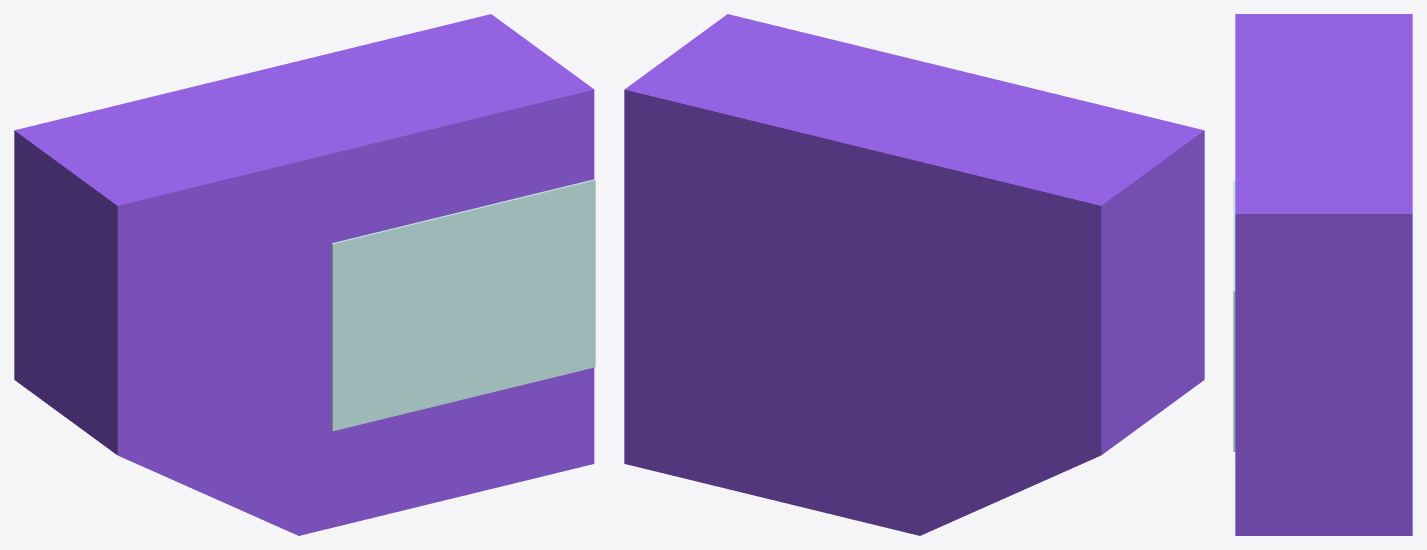
3 views of the same model, side by side, from view 1: azimuth 30°, elevation 25°; view 2: azimuth 150°, elevation 25°; view 3: azimuth 270°, elevation 25° (orthographic). The views are drawn at different scales.
Parts seen in each view (by area): view 1: Mesh_0.010; view 2: Mesh_0.010; view 3: Mesh_0.010.
Part boxes in pixels (x1,y1,x2,y2): Mesh_0.010: (14,14,595,535); Mesh_0.010: (624,14,1204,535); Mesh_0.010: (1233,14,1412,535).
Bounding box in the file's own units: 4 × 3 × 1.52.
